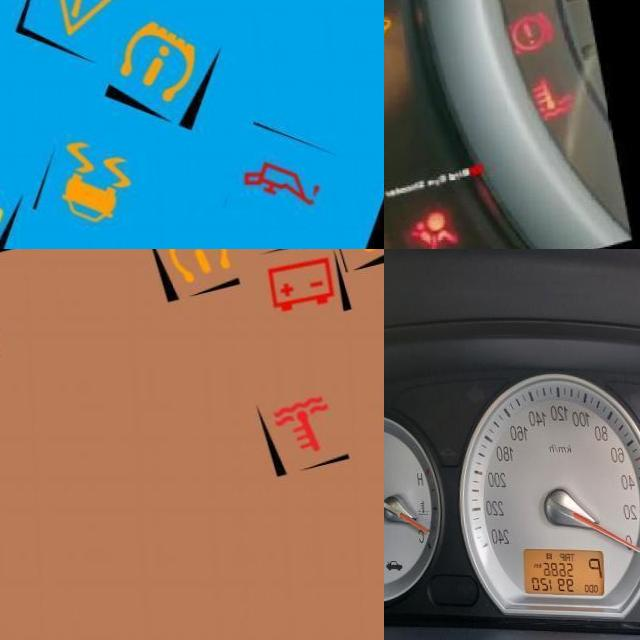Engine cooling system: (527, 65, 583, 125)
